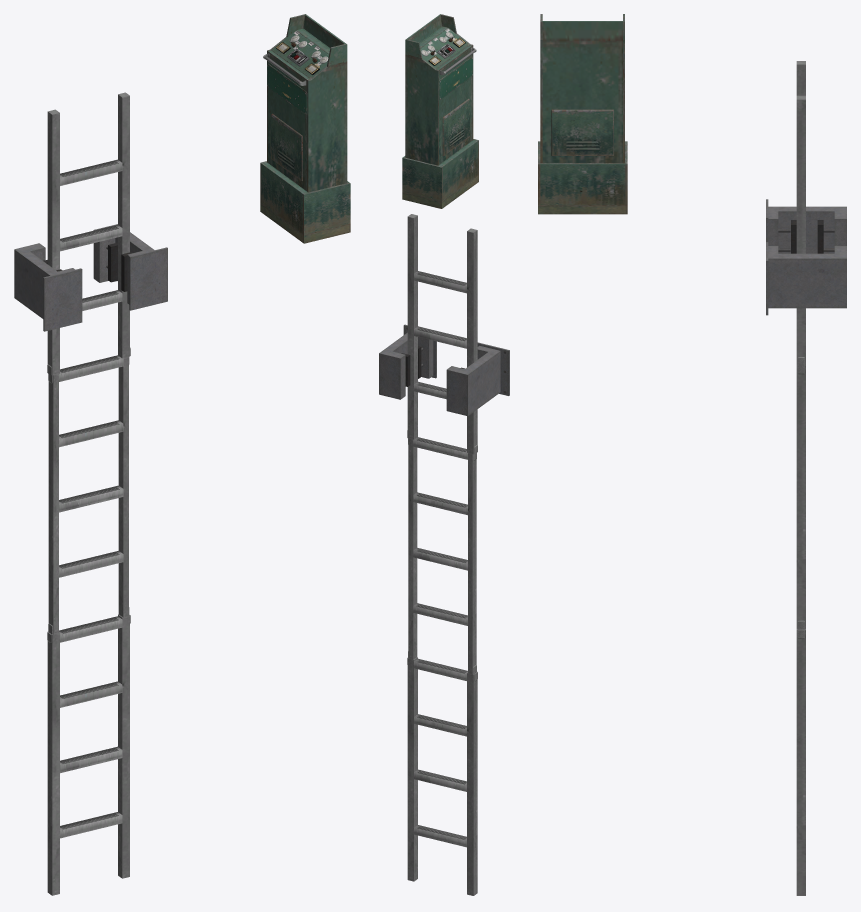
File: sm22_064_downladder01a.fbx
3 views of the same model, side by side, from view 1: azimuth 30°, elevation 25°; view 2: azimuth 150°, elevation 25°; view 3: azimuth 270°, elevation 25° (orthographic). The views are drawn at different scales.
Visible parts, largest first — view 1: LOD_1_Group_0_Sub_3__sm40_017_StarsLadder01A_A_Mat, LOD_1_Group_0_Sub_1__sm22_015_Switchboard05B_A_Mat, LOD_1_Group_0_Sub_2__sm60_043_Downladder01A_A_Mat; view 2: LOD_1_Group_0_Sub_3__sm40_017_StarsLadder01A_A_Mat, LOD_1_Group_0_Sub_1__sm22_015_Switchboard05B_A_Mat, LOD_1_Group_0_Sub_2__sm60_043_Downladder01A_A_Mat; view 3: LOD_1_Group_0_Sub_1__sm22_015_Switchboard05B_A_Mat, LOD_1_Group_0_Sub_2__sm60_043_Downladder01A_A_Mat, LOD_1_Group_0_Sub_3__sm40_017_StarsLadder01A_A_Mat.
Part boxes in pixels (left/top/right/bottom): LOD_1_Group_0_Sub_3__sm40_017_StarsLadder01A_A_Mat: left=47, top=92, right=130, bottom=895; LOD_1_Group_0_Sub_1__sm22_015_Switchboard05B_A_Mat: left=260, top=14, right=350, bottom=243; LOD_1_Group_0_Sub_2__sm60_043_Downladder01A_A_Mat: left=14, top=224, right=167, bottom=331; LOD_1_Group_0_Sub_3__sm40_017_StarsLadder01A_A_Mat: left=407, top=214, right=477, bottom=895; LOD_1_Group_0_Sub_1__sm22_015_Switchboard05B_A_Mat: left=402, top=14, right=478, bottom=208; LOD_1_Group_0_Sub_2__sm60_043_Downladder01A_A_Mat: left=379, top=324, right=509, bottom=416; LOD_1_Group_0_Sub_1__sm22_015_Switchboard05B_A_Mat: left=538, top=14, right=627, bottom=214; LOD_1_Group_0_Sub_2__sm60_043_Downladder01A_A_Mat: left=766, top=199, right=846, bottom=315; LOD_1_Group_0_Sub_3__sm40_017_StarsLadder01A_A_Mat: left=796, top=61, right=805, bottom=895.
Bounding box in the file's own units: 1.25 × 5.54 × 1.68.
